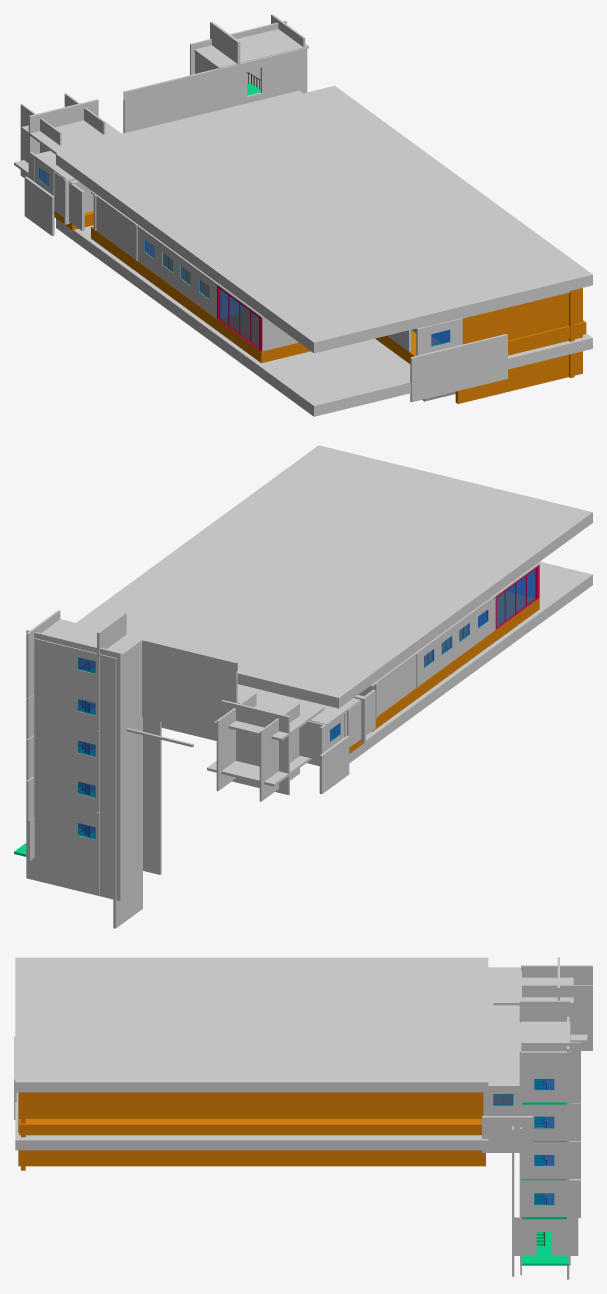
Rendered from Map2-3.fbx.
3 views of the same model, one above another, from view 1: azimuth 30°, elevation 25°; view 2: azimuth 150°, elevation 25°; view 3: azimuth 270°, elevation 25° (orthographic). The views are drawn at different scales.
Parts seen in each view (by area): view 1: ground9, ground10, Wall24, ground8, pCube100, Wall9, FireExitCeiling, ground3, ground2, pCube99, pCube93, pCube101 (+11 smaller); view 2: ground9, group13_Wall31, pCube90, ground10, Wall24, Wall9, Wall29, pCube91, pCube93, pCube96, ground3, pCube99 (+10 smaller); view 3: ground9, ground7, ground4, ground10, Wall25, ground, Wall30, Wall28, pCube97, Wall27, pCube102, Wall26 (+8 smaller).
Part boxes in pixels (bbox=[...]): ground9: bbox=[56, 85, 592, 353]; ground10: bbox=[56, 218, 592, 416]; Wall24: bbox=[123, 47, 307, 132]; ground8: bbox=[455, 288, 582, 403]; pCube100: bbox=[410, 334, 507, 402]; Wall9: bbox=[96, 197, 216, 318]; FireExitCeiling: bbox=[194, 29, 308, 68]; ground3: bbox=[91, 226, 249, 330]; ground2: bbox=[217, 312, 310, 363]; pCube99: bbox=[21, 117, 125, 154]; pCube93: bbox=[28, 99, 98, 178]; pCube101: bbox=[24, 176, 54, 236]; ground9: bbox=[76, 445, 592, 708]; group13_Wall31: bbox=[26, 630, 121, 901]; pCube90: bbox=[113, 638, 142, 928]; ground10: bbox=[161, 561, 592, 765]; Wall24: bbox=[67, 620, 237, 703]; Wall9: bbox=[378, 597, 495, 715]; Wall29: bbox=[79, 666, 326, 758]; pCube91: bbox=[143, 717, 161, 874]; pCube93: bbox=[221, 700, 289, 794]; pCube96: bbox=[259, 703, 299, 801]; ground3: bbox=[372, 625, 496, 731]; pCube99: bbox=[214, 691, 324, 740]; ground9: bbox=[15, 957, 488, 1092]; ground7: bbox=[18, 1092, 485, 1166]; ground4: bbox=[19, 1119, 481, 1135]; ground10: bbox=[15, 1092, 488, 1150]; Wall25: bbox=[521, 1042, 580, 1103]; ground: bbox=[488, 967, 519, 1086]; Wall30: bbox=[514, 1217, 578, 1255]; Wall28: bbox=[522, 1179, 580, 1217]; pCube97: bbox=[522, 985, 592, 1050]; Wall27: bbox=[522, 1141, 580, 1179]; pCube102: bbox=[482, 1116, 532, 1152]; Wall26: bbox=[522, 1103, 580, 1141].
Bounding box in the file's own units: 26.74 × 25.63 × 49.52.
